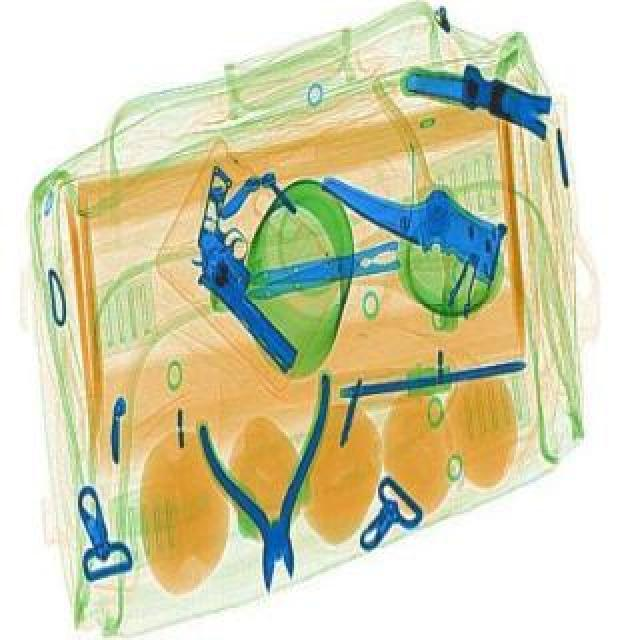gun: (144, 168, 356, 372)
wrench: (192, 376, 348, 600)
